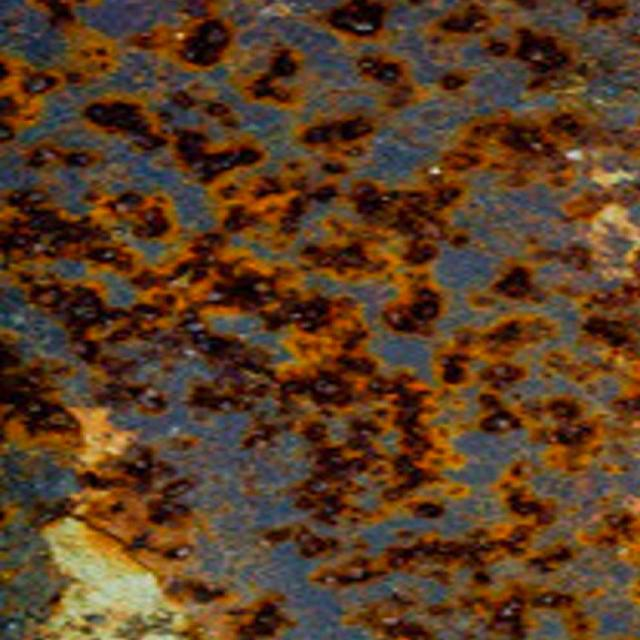wall_corrosion: (0, 1, 640, 640)
